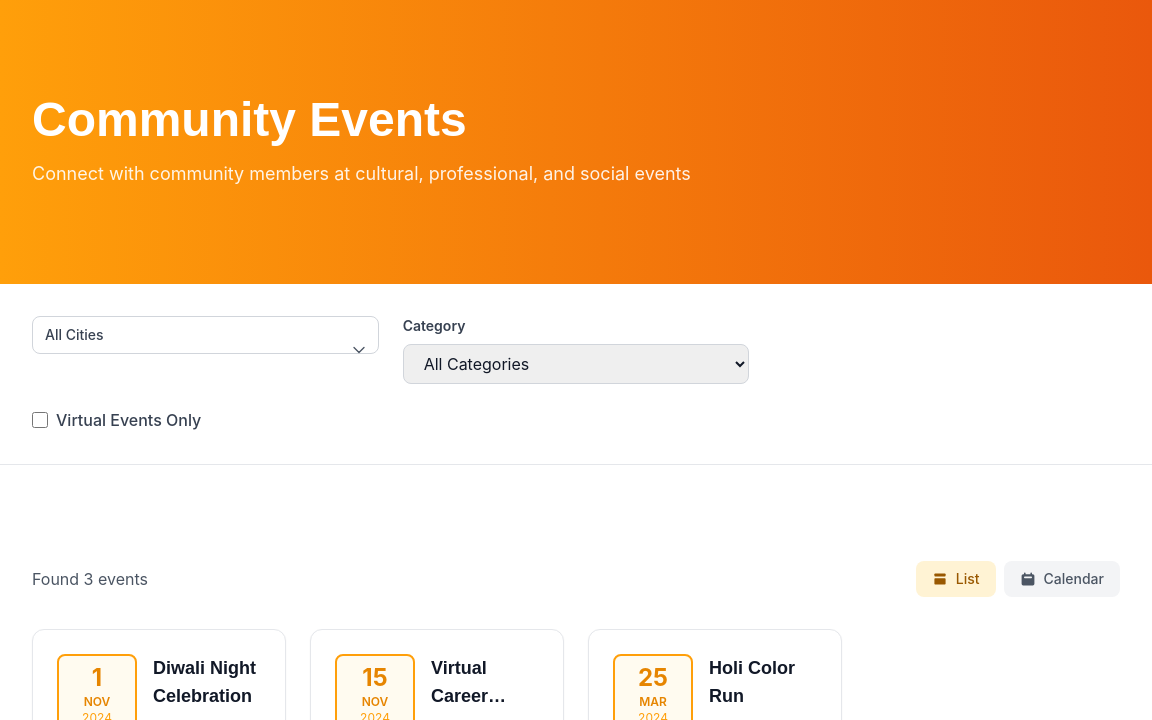
Test: EventsPage › filters for virtual events when toggle is checked
Expected: the heading "Diwali Night Celebration" is shown, x1=153 y1=654 x2=261 y2=710
Click the checkbox at [40, 420], box x1=32 y1=412 x2=48 y2=428
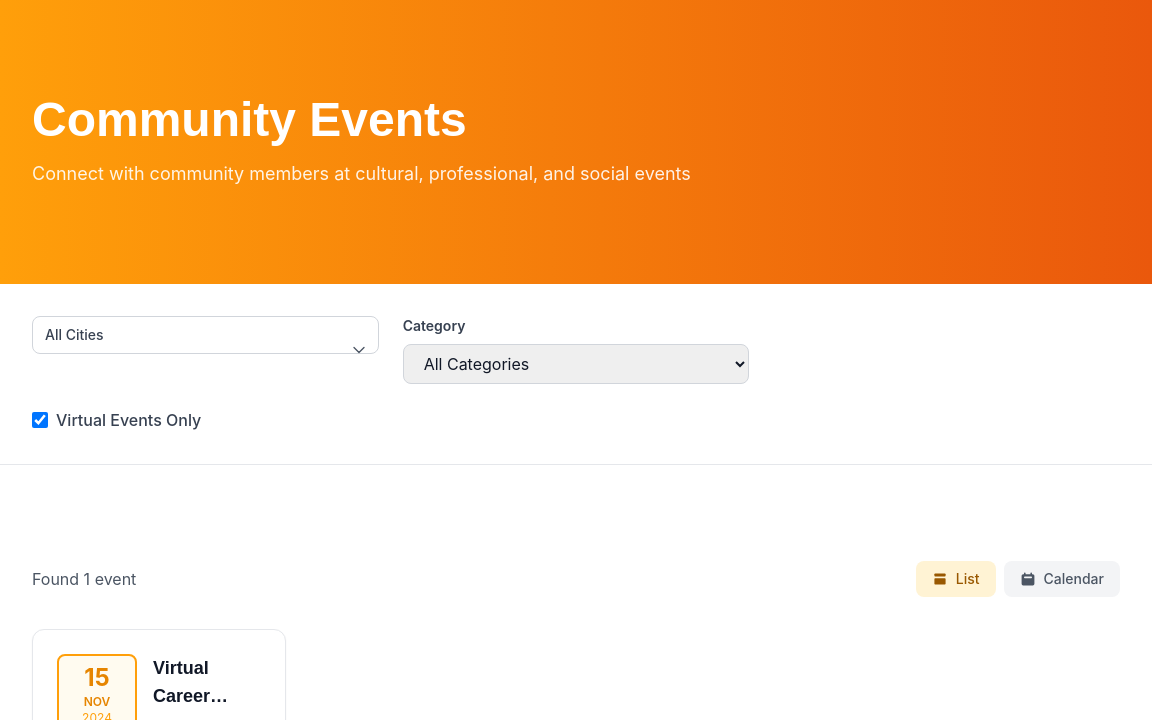
Now the link "Diwali Night Celebration" is gone
